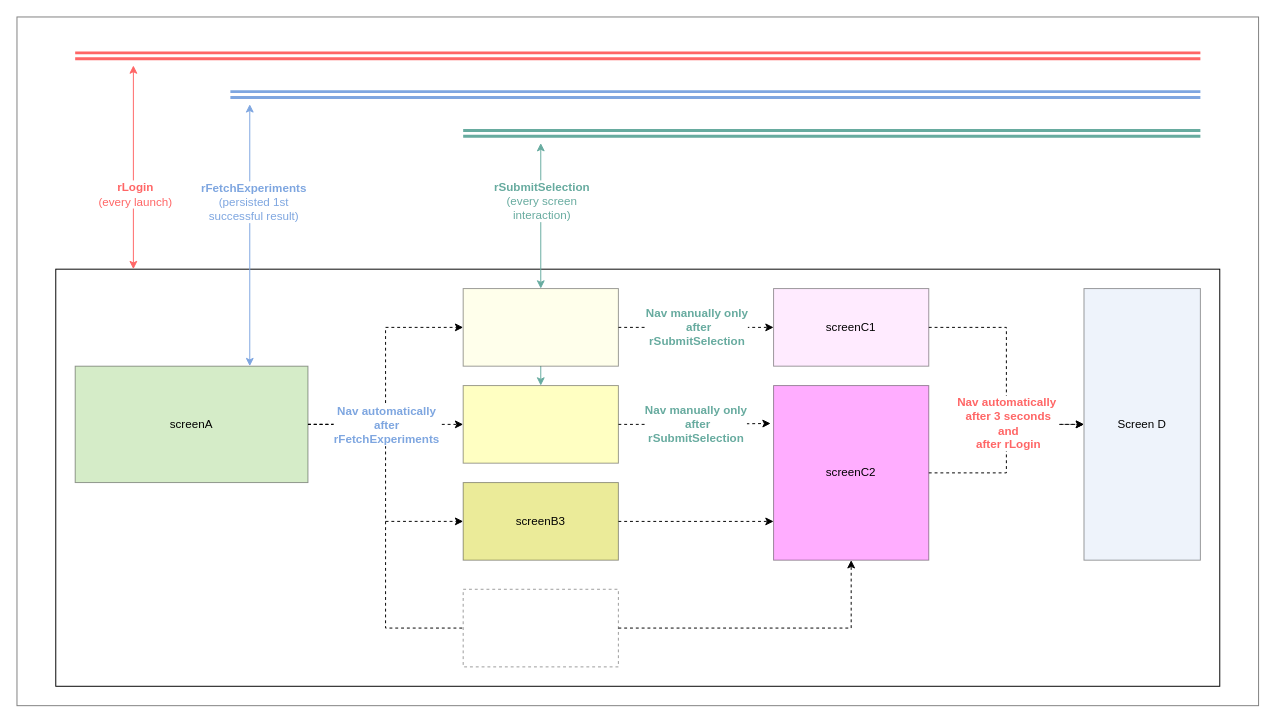
The diagram is 1276 pixels wide and 723 high, and some of its shapes have lost their labels. The centre of each missing label's shape, as x and y in pixels:
"noScreenB" belongs at (x=540, y=627).
"screenB1" belongs at (x=540, y=327).
"screenB2" belongs at (x=540, y=424).
